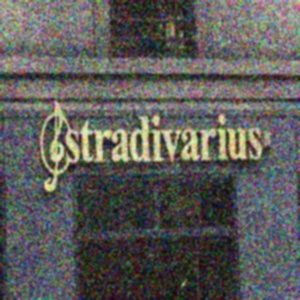stradivarius: (251, 45, 284, 136)
